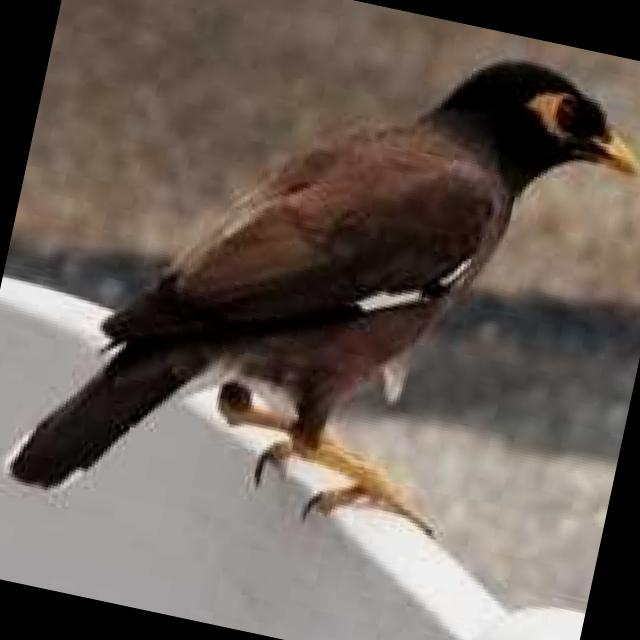bird: (0, 0, 640, 613)
